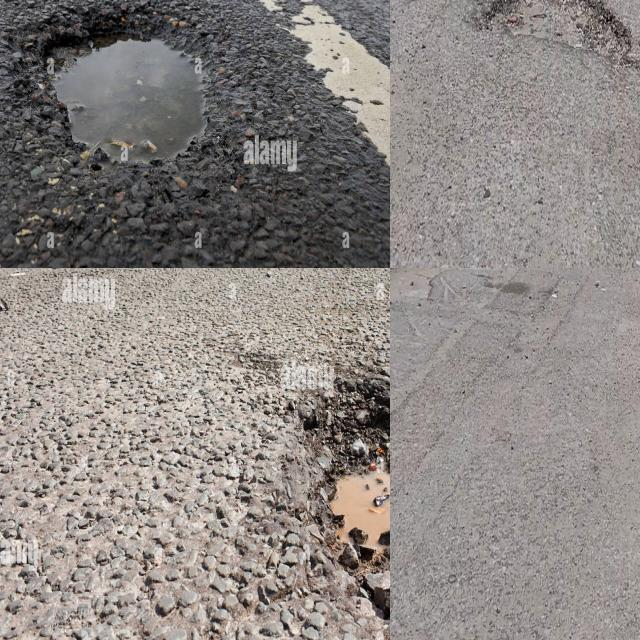Pothole: (50, 39, 205, 167), (304, 368, 390, 589), (482, 0, 632, 65)
